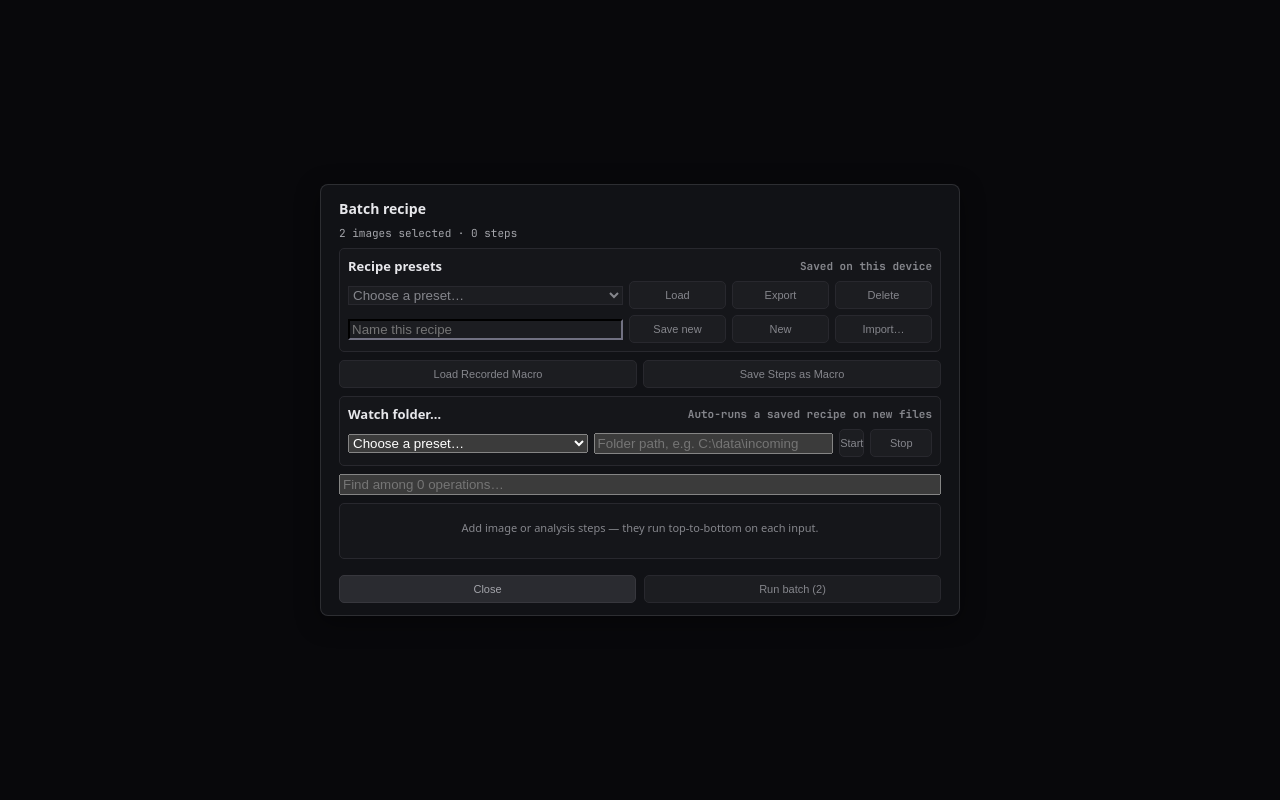
Test: BatchDialog › surfaces a 409 (already watching) from Start as a visible message
Select "Level first · 1 step" in the dropdown named "Recipe to watch with" at (468, 443), box top-left (348, 434), bottom-right (588, 452)
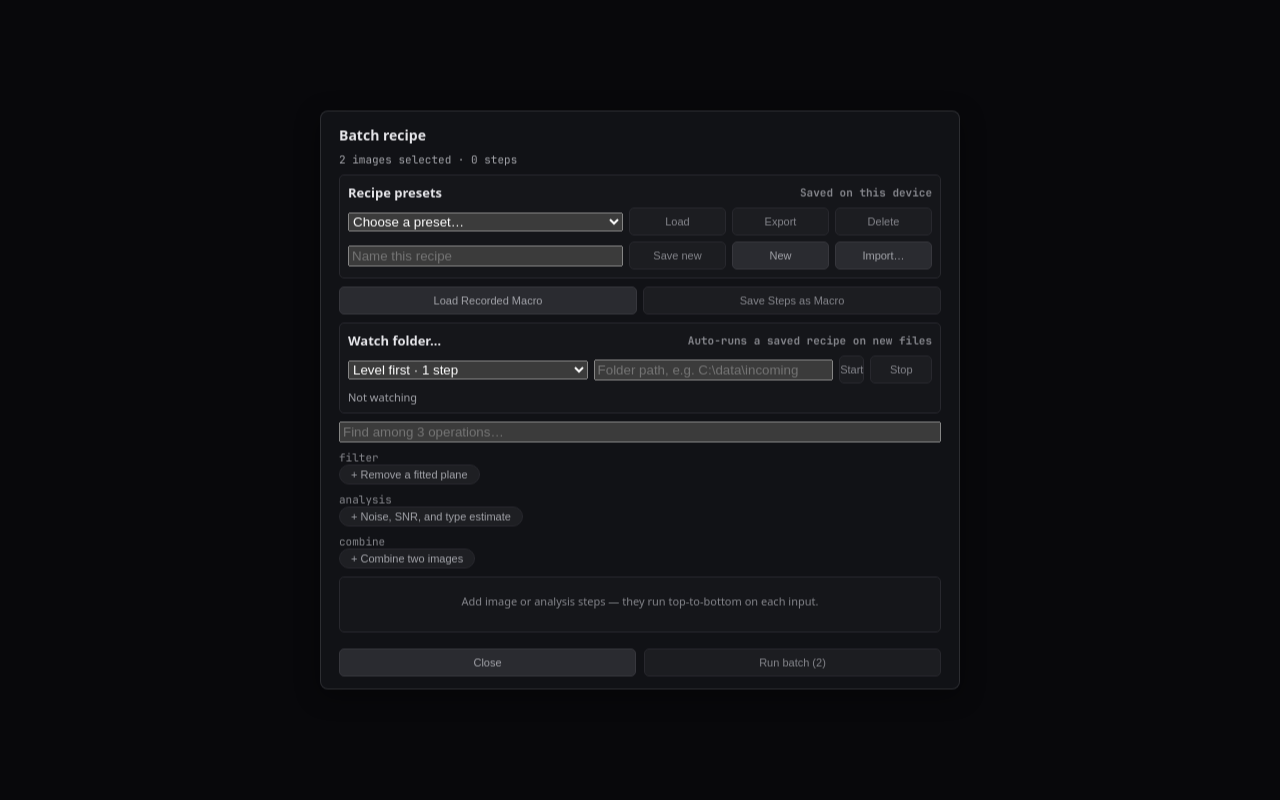
Type "C:\\incoming" into the field named "Folder to watch".
click(713, 370); type("C:\\incoming")  # box top-left (594, 359), bottom-right (833, 380)
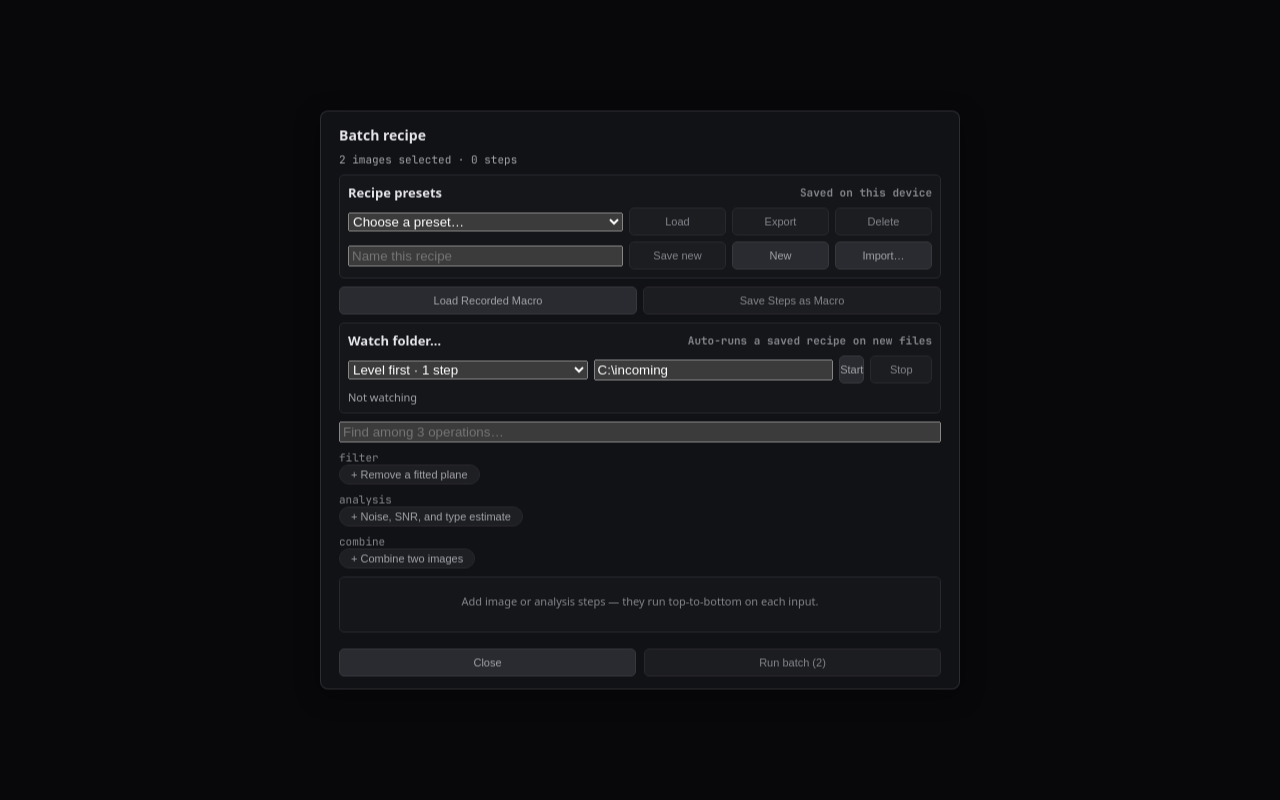
Click the button "Start".
click(852, 370)  # box top-left (839, 356), bottom-right (864, 384)
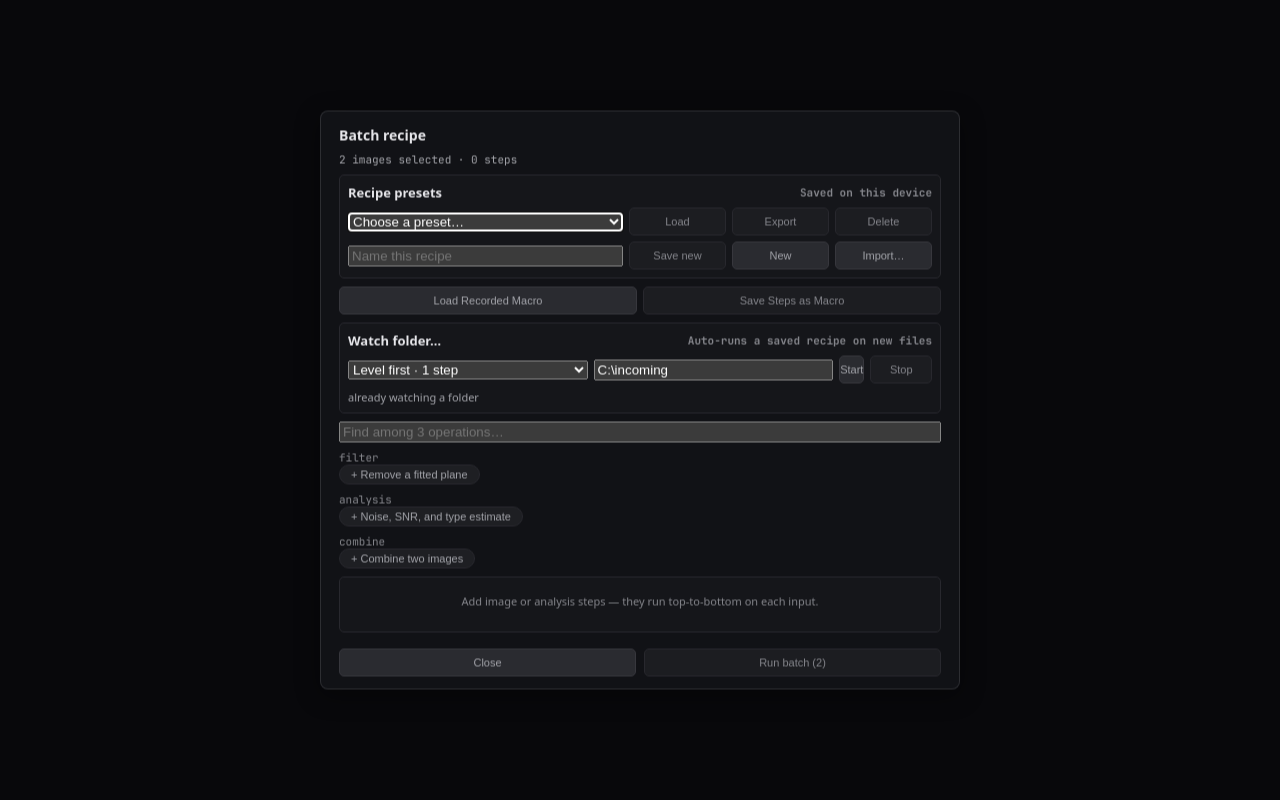
Check: the text "already watching a folder" is shown, box top-left (348, 390), bottom-right (479, 404)
